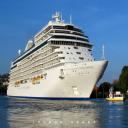cruises: (7, 12, 111, 103)
